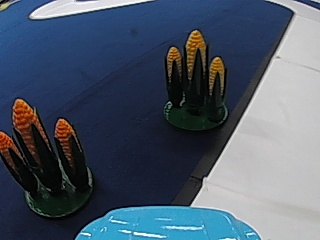corn: (4, 94, 95, 216), (160, 25, 232, 131)
